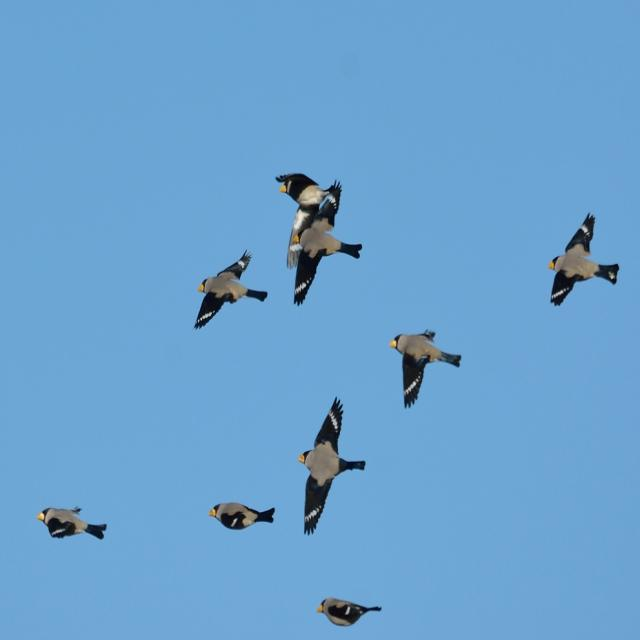bird: (295, 395, 369, 540), (292, 196, 370, 310), (546, 211, 624, 304), (268, 168, 338, 258), (191, 252, 269, 332), (388, 331, 464, 412), (35, 509, 110, 544), (208, 502, 278, 534), (317, 596, 384, 629)
